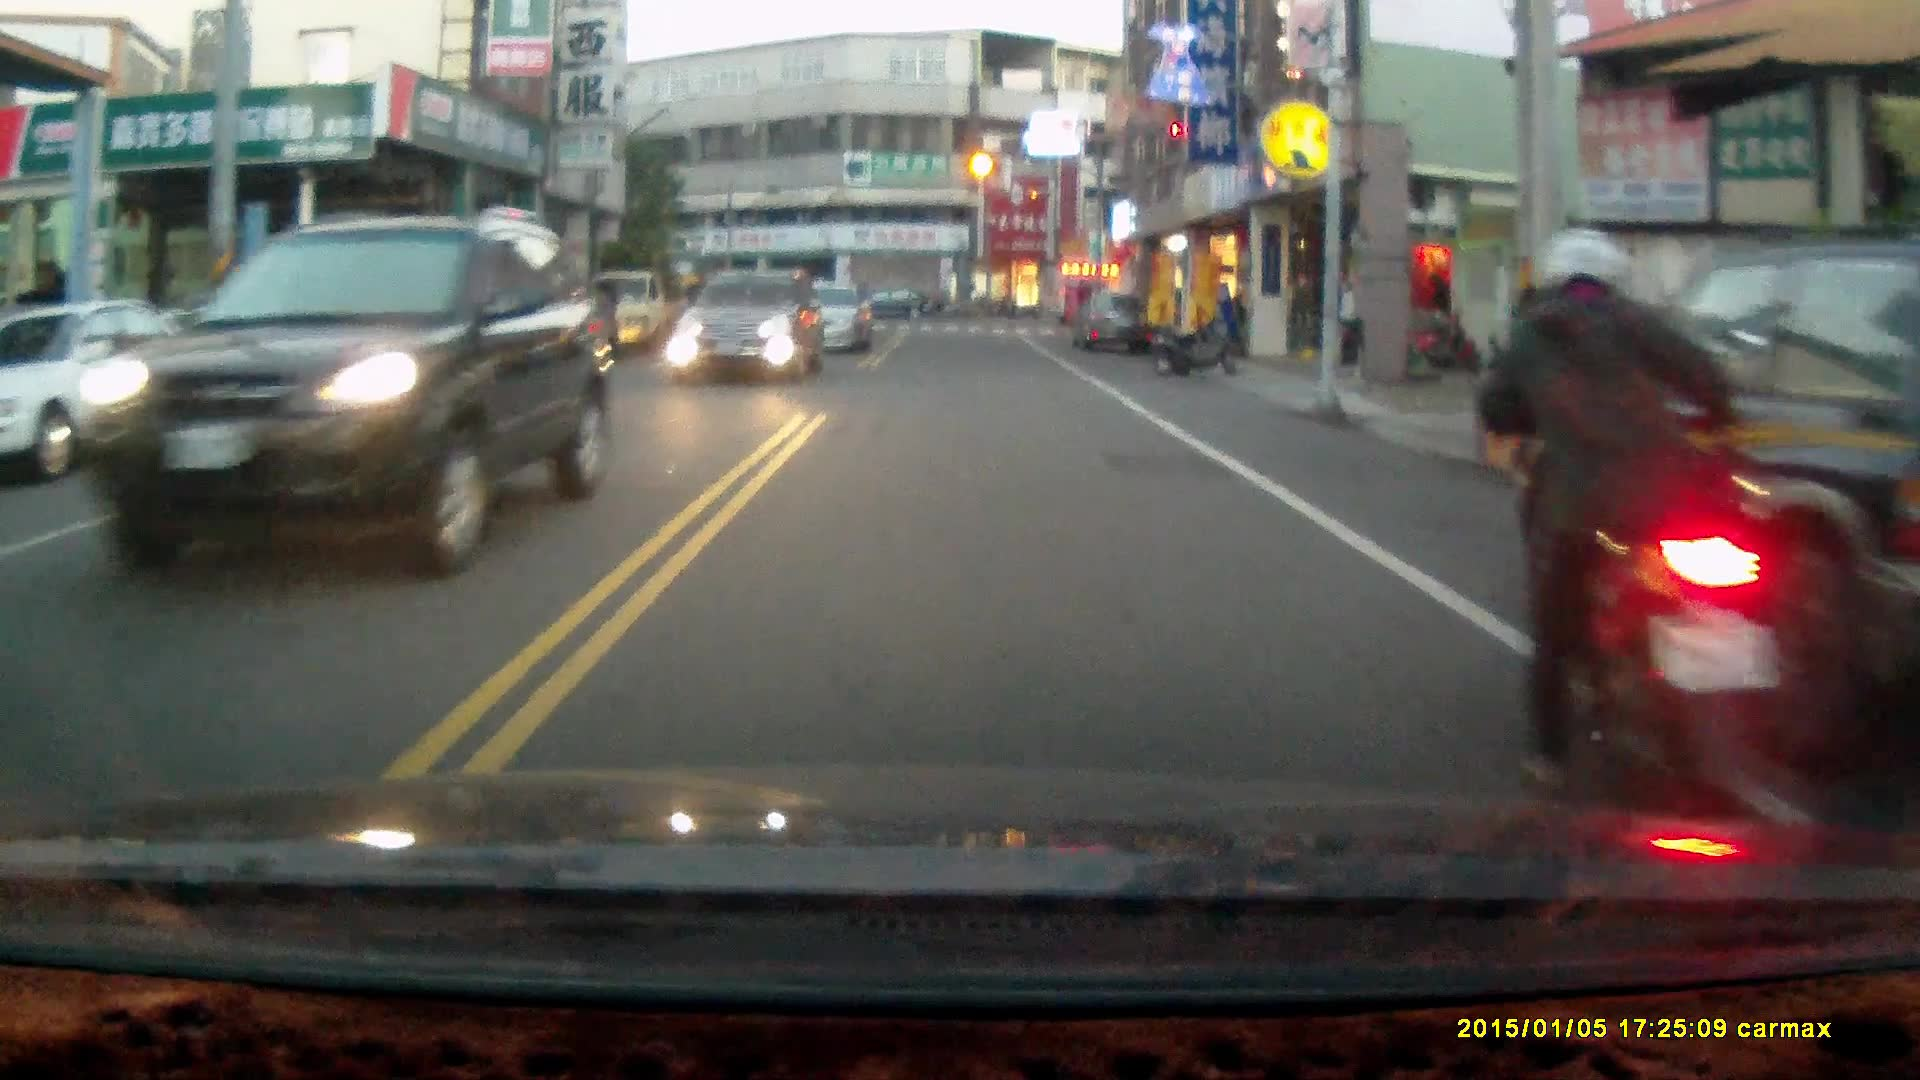pedestrian: (590, 278, 619, 368)
rider: (1479, 231, 1790, 824)
vehicle: (45, 209, 617, 581), (1540, 245, 1920, 735), (1, 295, 216, 484), (671, 268, 822, 388), (762, 279, 875, 357), (1073, 290, 1151, 357)
